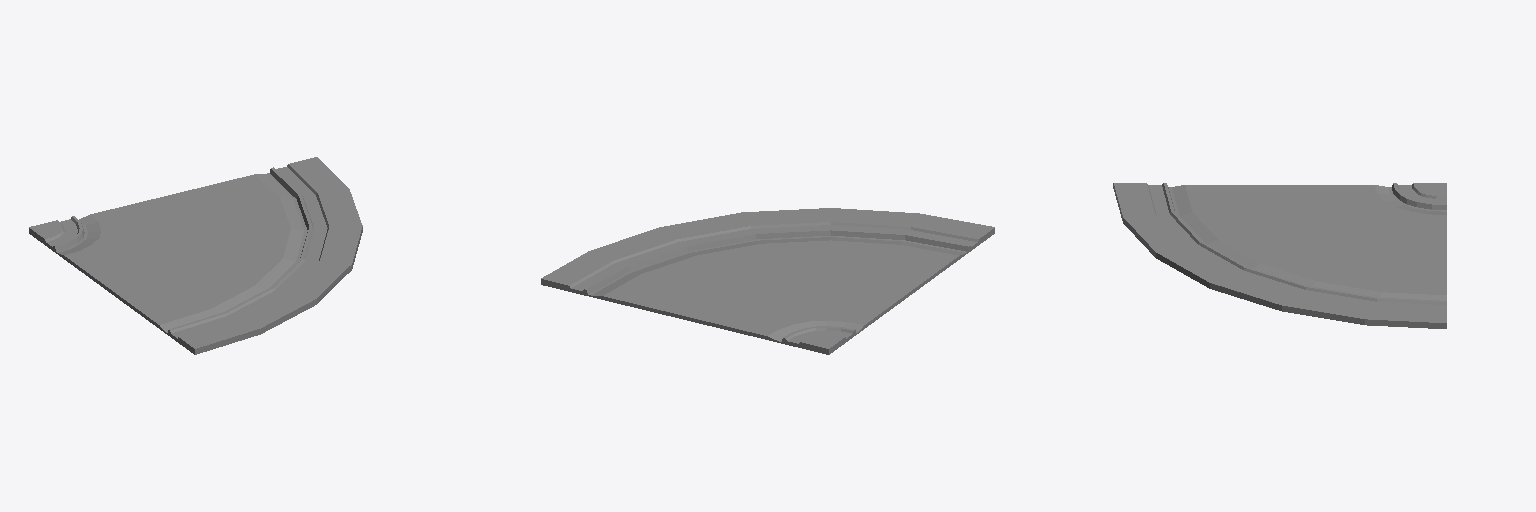
The model's file is Road-2-Lane-Corner.obj.
3 views of the same model, side by side, from view 1: azimuth 30°, elevation 25°; view 2: azimuth 150°, elevation 25°; view 3: azimuth 270°, elevation 25° (orthographic).
Visible parts, largest first — view 1: Road_2_Lane_Corner; view 2: Road_2_Lane_Corner; view 3: Road_2_Lane_Corner.
Boxes of the visible parts, box(x1,y1,x2,y2) form: Road_2_Lane_Corner: box(29, 157, 362, 354); Road_2_Lane_Corner: box(541, 208, 994, 354); Road_2_Lane_Corner: box(1113, 183, 1446, 328).
Size of the model in its own units: 3600 by 72 by 3600.